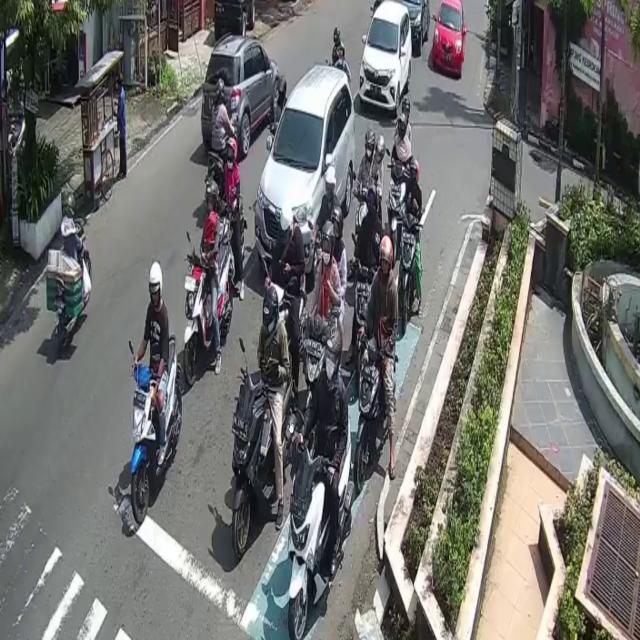bus: (289, 411, 354, 640), (233, 360, 295, 559), (130, 332, 182, 527), (181, 240, 231, 385), (359, 343, 399, 489), (54, 221, 92, 353), (397, 212, 418, 333)
motorcycle: (255, 63, 356, 273), (201, 34, 280, 151), (358, 1, 412, 118), (433, 0, 464, 78), (399, 0, 430, 52)
